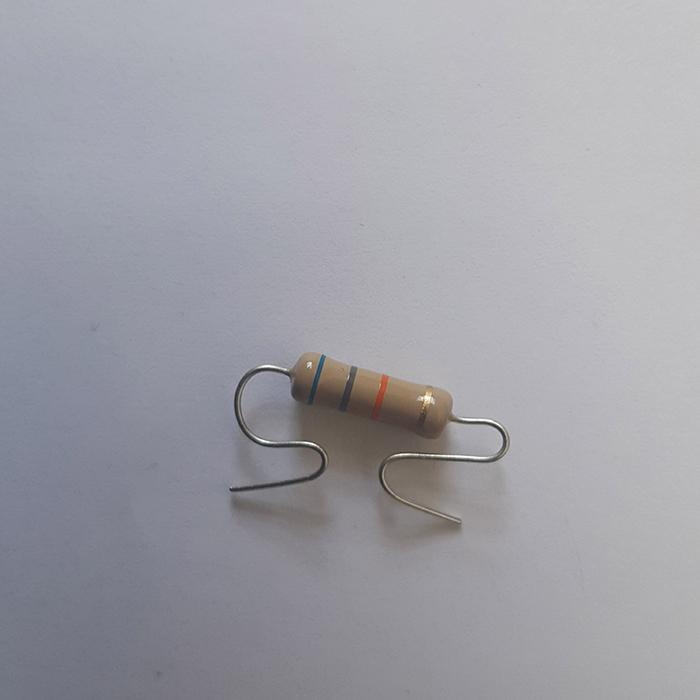resistor: (289, 351, 453, 437)
